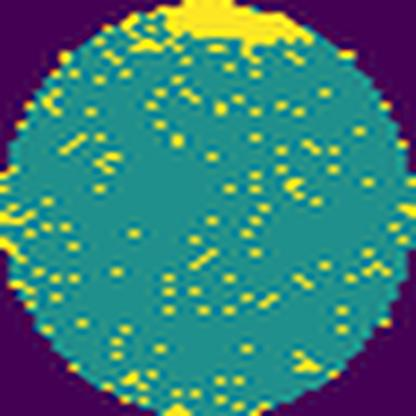Edge-Loc: (146, 0, 322, 48)
